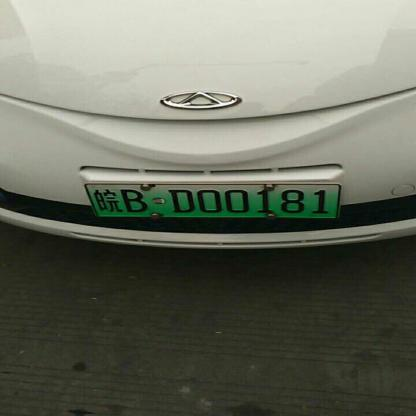lp: (86, 184, 340, 218)
